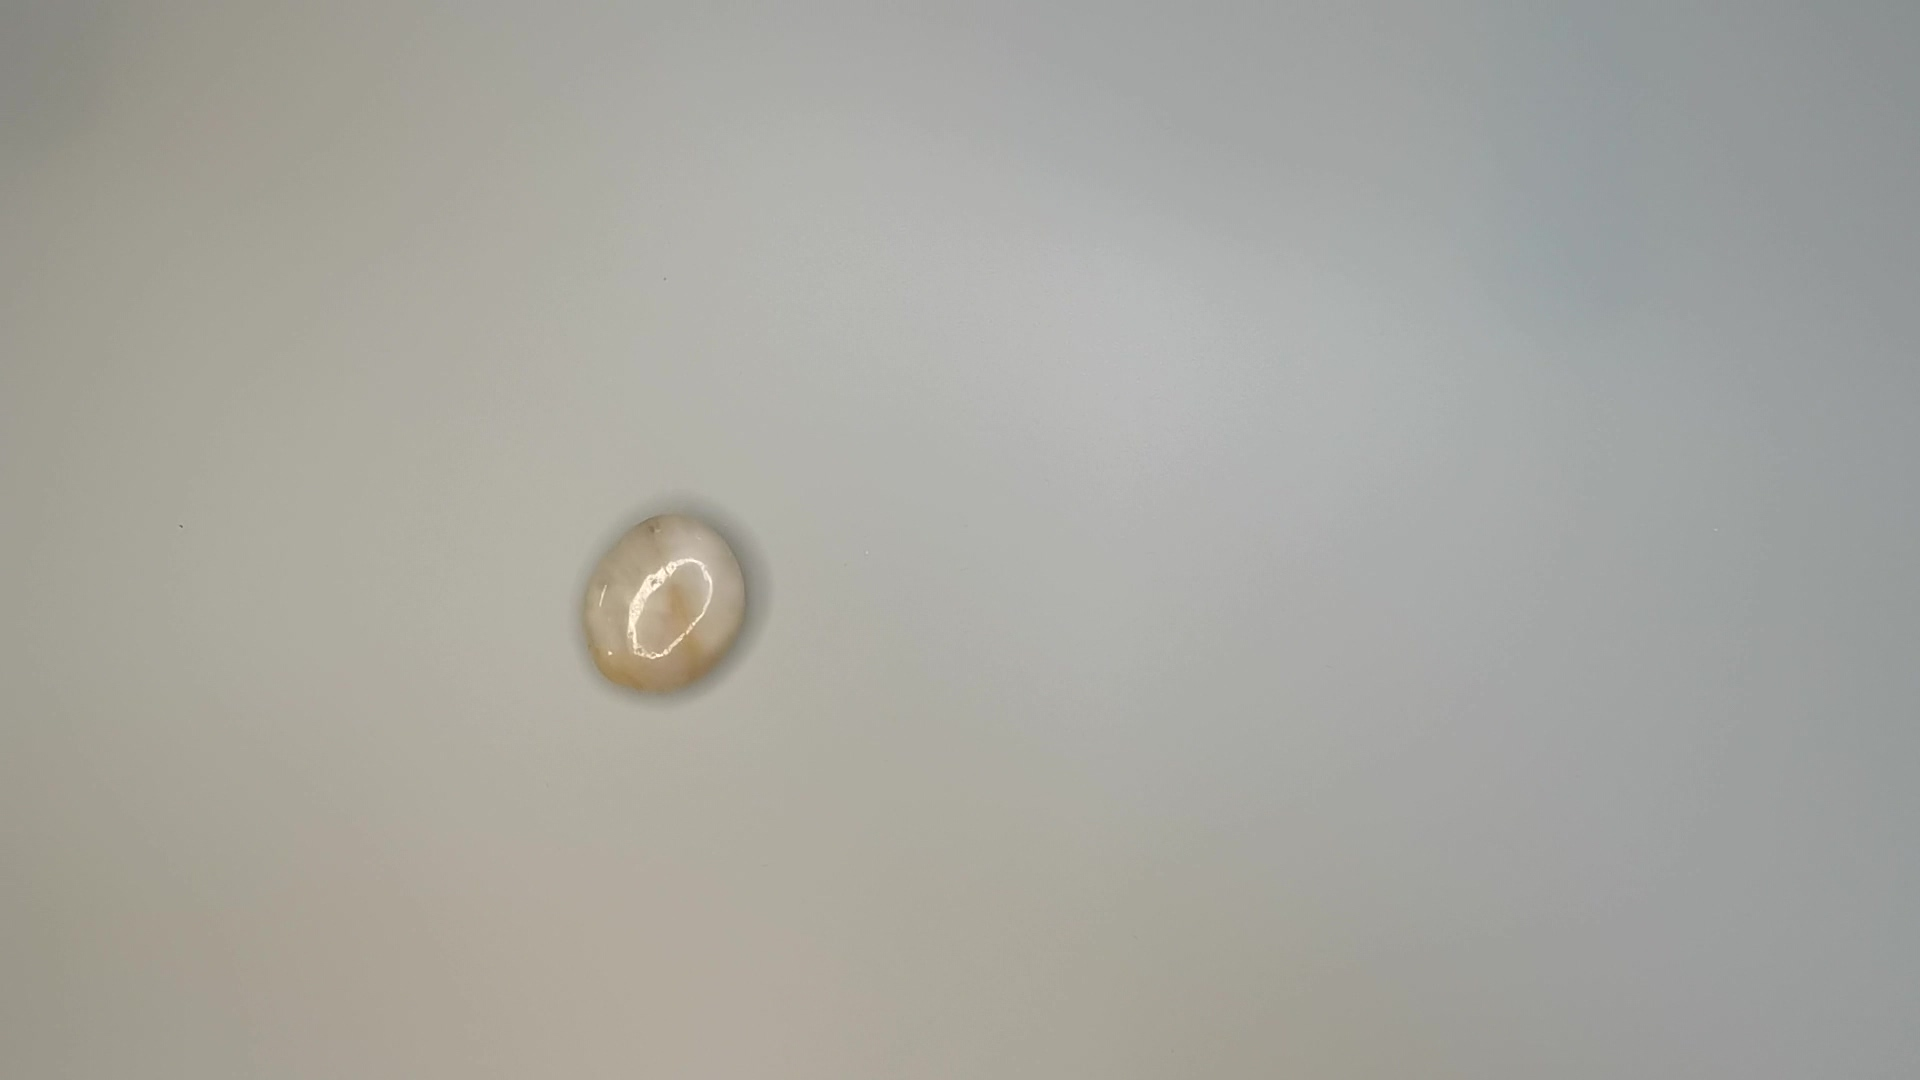ceramic: (582, 512, 756, 698)
